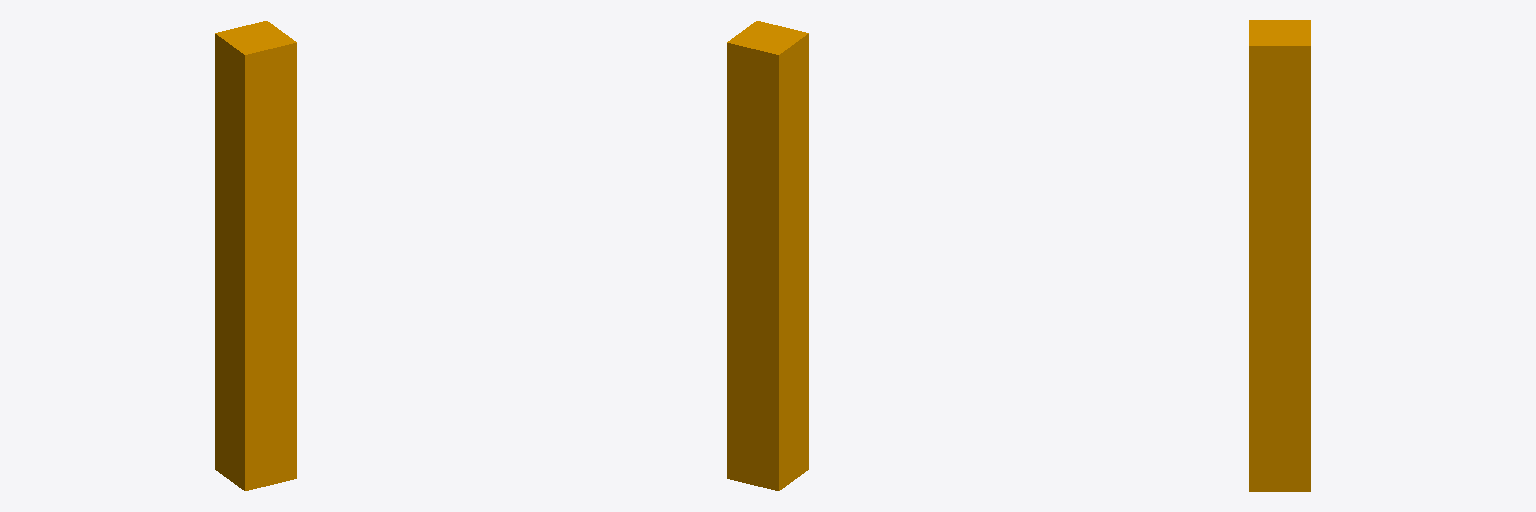
robot.urdf — box:
<?xml version='1.0' encoding='UTF-8'?>
<robot name="box">
  <link name="base_link">
    <inertial>
      <origin xyz="0.0 0.0 0.0" rpy="0.0 -0.0 0.0"/>
      <mass value="1.0"/>
      <inertia ixx="1.0" ixy="0.0" ixz="0.0" iyy="1.0" iyz="0.0" izz="1.0"/>
    </inertial>
    <visual name="base_link_visual">
      <geometry>
        <box size="0.5 0.5 4.0"/>
      </geometry>
      <origin xyz="0 0 0" rpy="0 0 0"/>
    </visual>
    <collision name="base_link_collision">
      <geometry>
        <box size="0.5 0.5 4.0"/>
      </geometry>
      <origin xyz="0 0 0" rpy="0 0 0"/>
    </collision>
  </link>
</robot>

--- What the picture shows (computed from the rendered views, not written in the file) ---
Views: 3 orthographic renders of the robot side by side, from view 1: azimuth 30°, elevation 25°; view 2: azimuth 150°, elevation 25°; view 3: azimuth 270°, elevation 25°.
Model box with 1 links and 0 joints (none), rooted at base_link, posed every joint at zero.
Links seen in each view (by area): view 1: base_link; view 2: base_link; view 3: base_link.
Boxes of the visible links, x1,y1,x2,y2 form: base_link: (215,21,296,490); base_link: (727,21,808,490); base_link: (1249,20,1310,491).
Bounding box of the posed robot: 0.5 × 0.5 × 4 m (x, y, z).
Geometry: primitives only (box / cylinder / sphere), no mesh files.